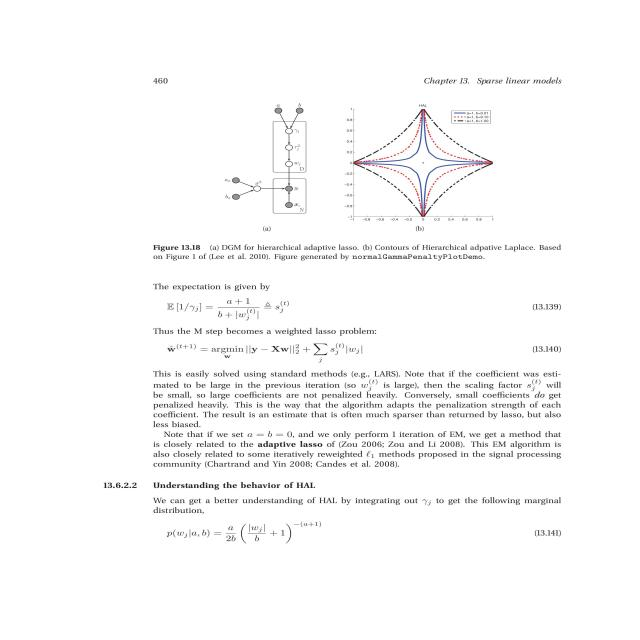diagram: (118, 93, 583, 271)
